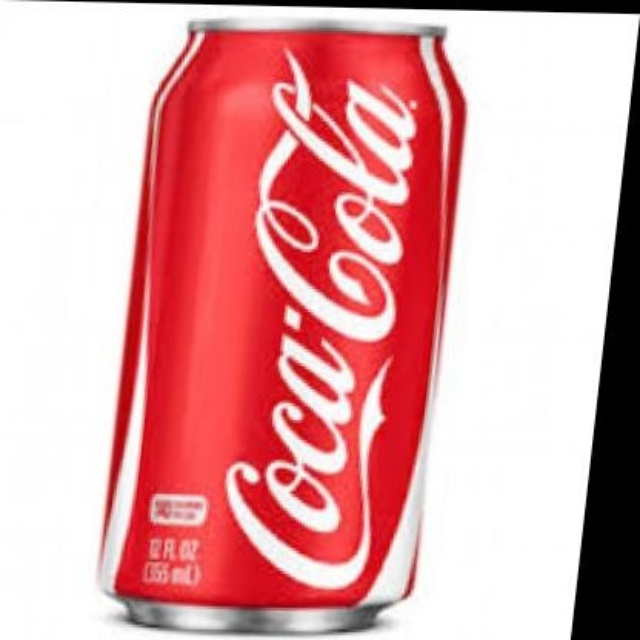trash: (100, 22, 463, 631)
